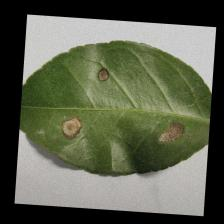canker: (54, 58, 190, 151)
